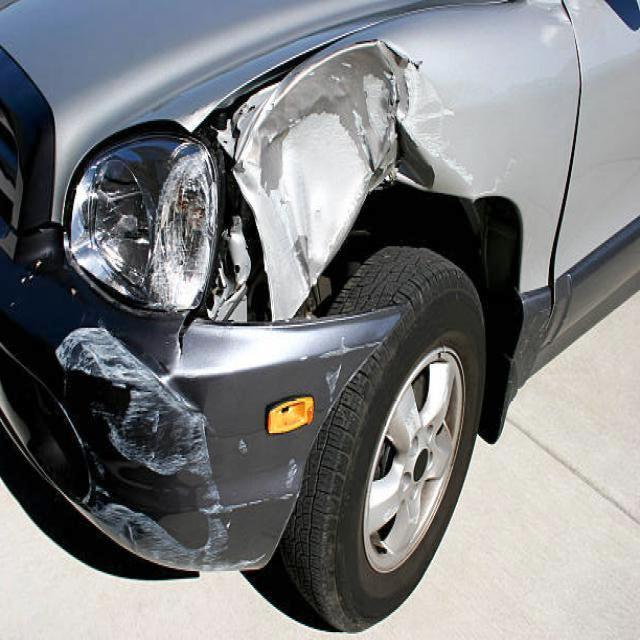minor: (218, 460, 302, 509), (321, 347, 378, 407)
moderate: (187, 14, 487, 331), (86, 387, 228, 557), (52, 485, 200, 578)
